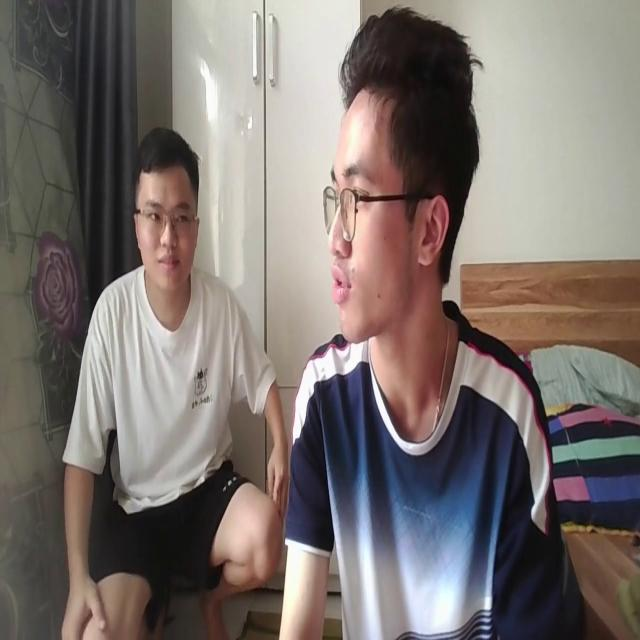extra_person: (66, 122, 298, 640)
student: (280, 3, 562, 640)
